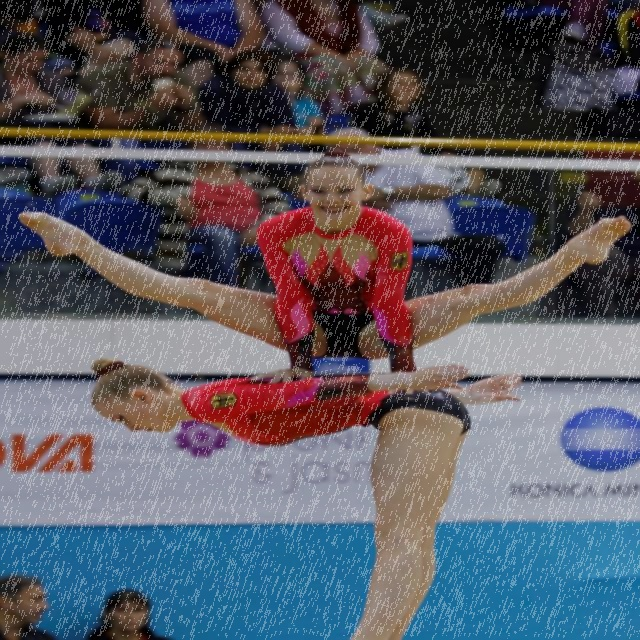pessoa: (2, 144, 637, 401), (68, 347, 530, 639), (324, 126, 510, 290), (121, 124, 292, 288), (4, 4, 392, 76), (0, 32, 105, 198), (540, 2, 640, 122), (77, 38, 198, 130), (555, 188, 640, 286), (198, 52, 298, 132), (338, 68, 452, 136), (264, 53, 328, 135), (0, 570, 72, 639), (83, 590, 173, 639)
